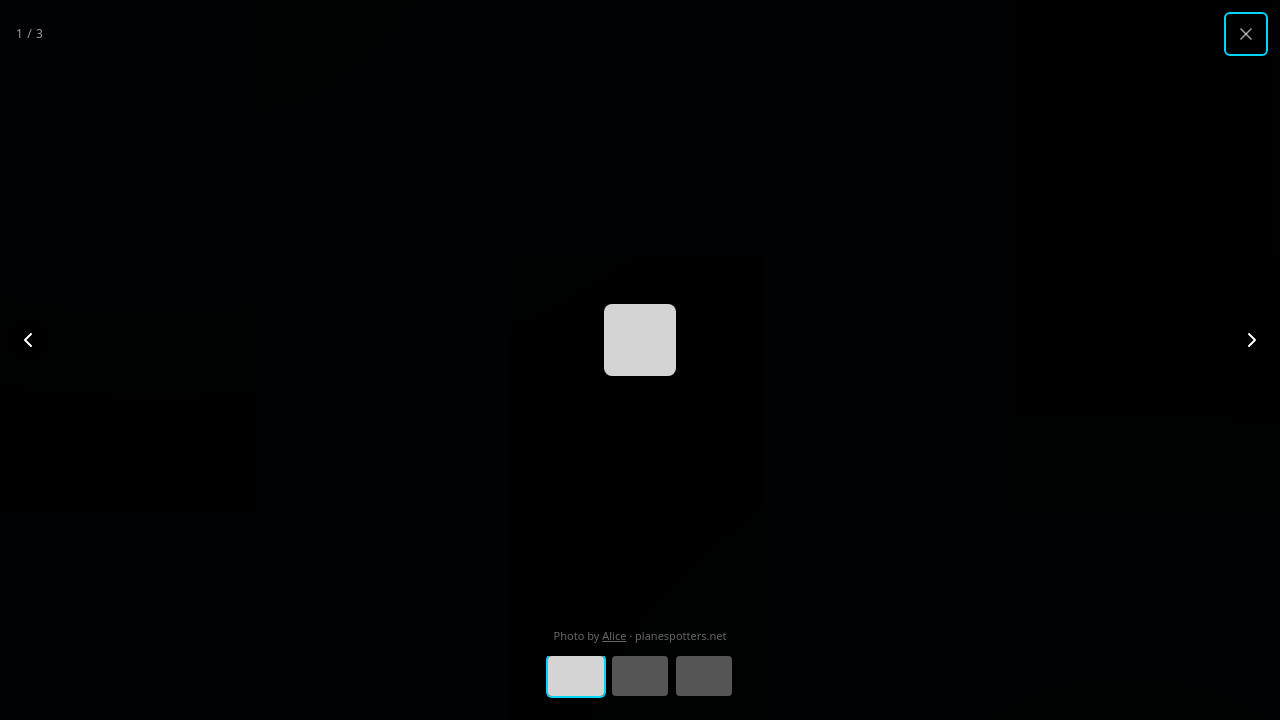
Scenario: <PhotoGallery /> › horizontal swipe left advances; right retreats
The width and height of the screenshot is (1280, 720).
Expected: the text "1 / 3" is shown, [16,26,44,42]
Press the mouse on the dialog at (640, 360), box [0,0,1279,719]
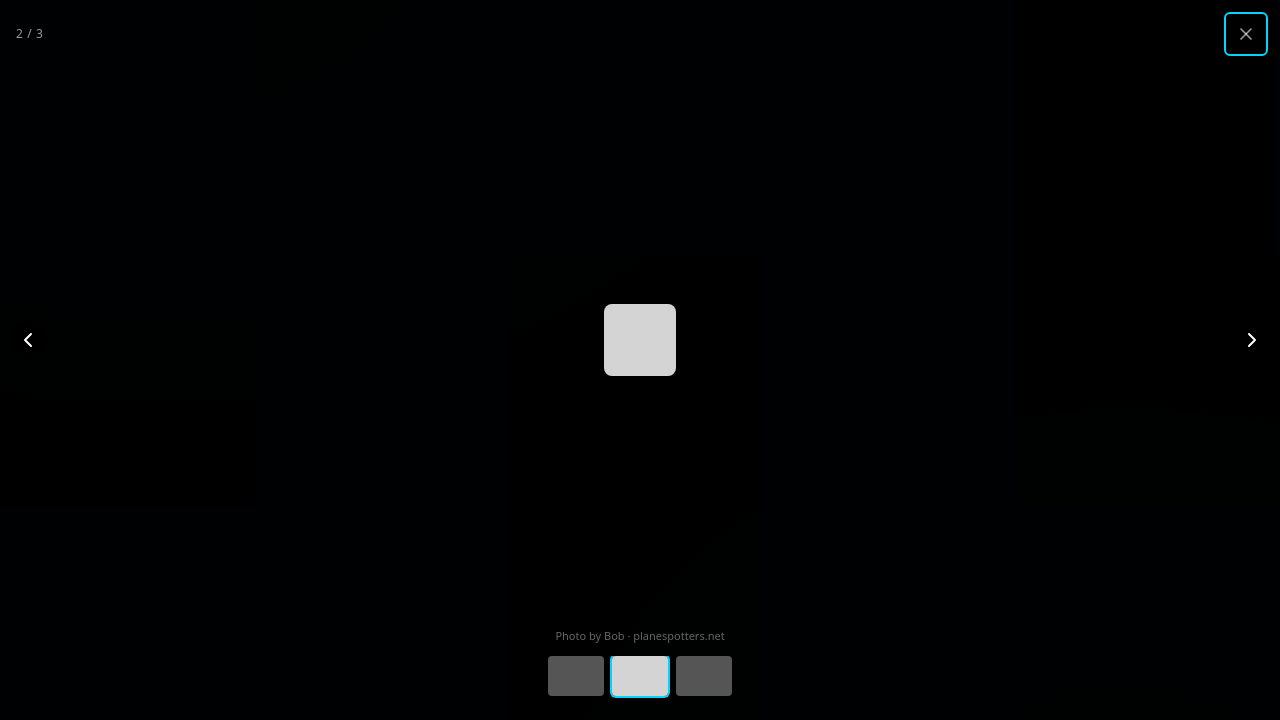
Expected: the text "2 / 3" is shown, [16,26,44,42]
Press the mouse on the dialog at (640, 360), box [0,0,1279,719]
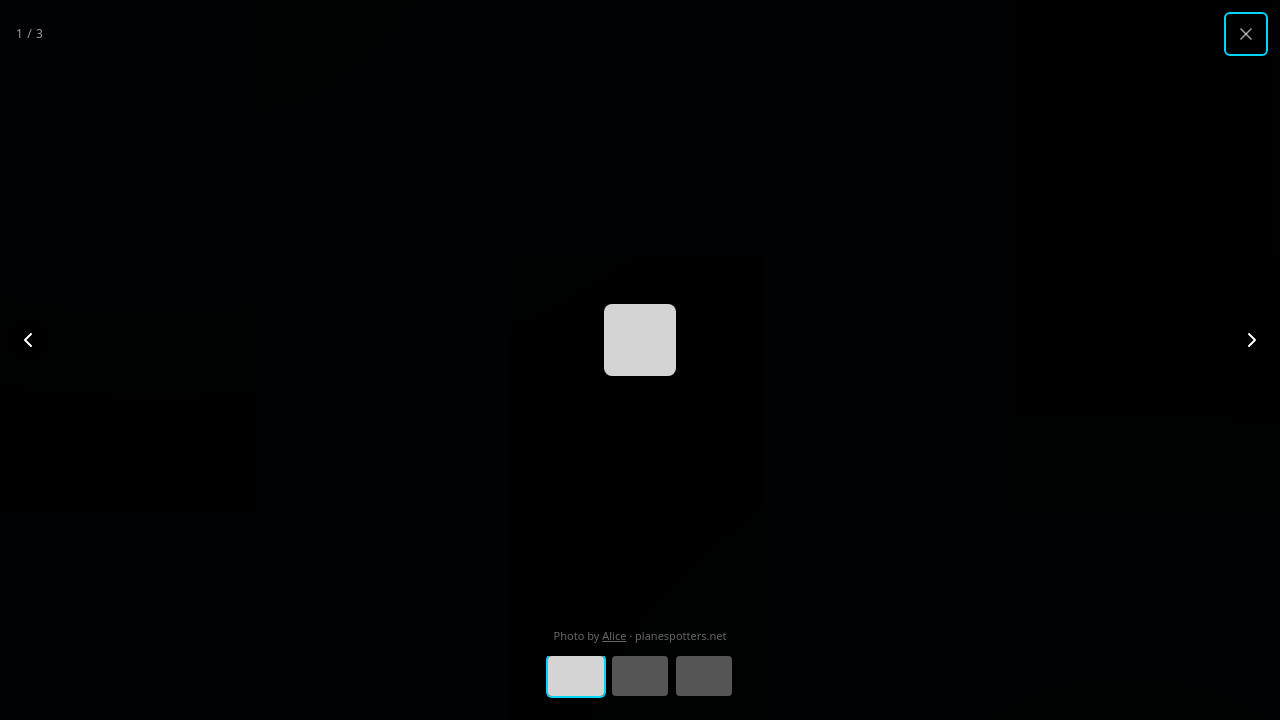
Expected: the text "1 / 3" is shown, [16,26,44,42]
